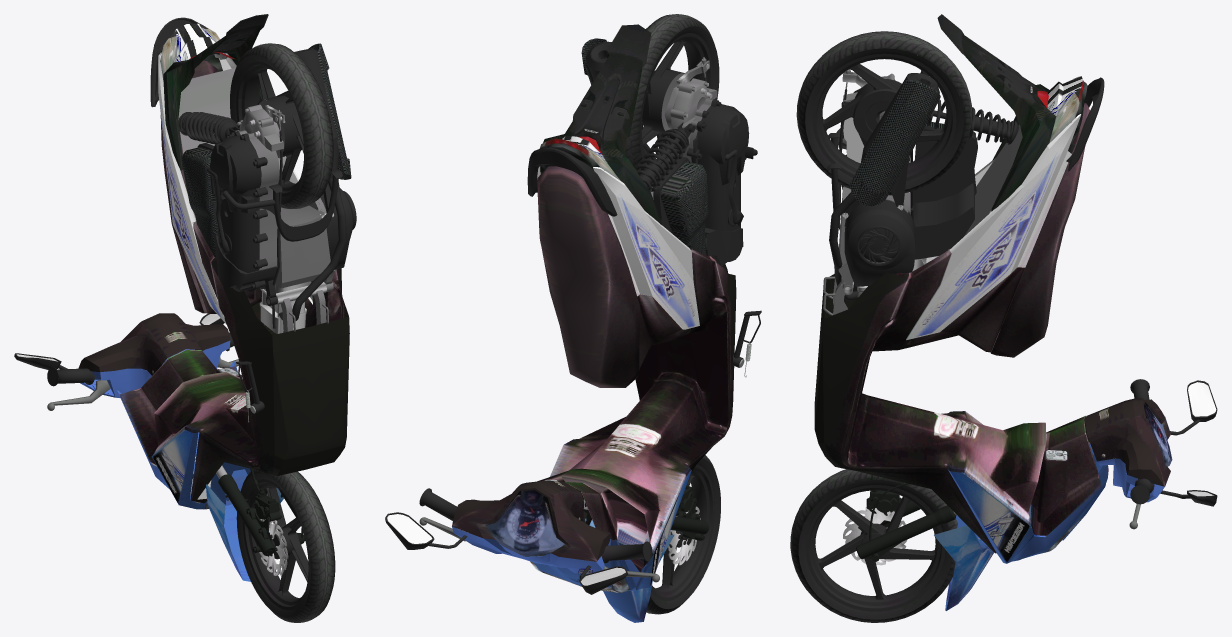
File: Honda_Beat.FBX
The picture shows the model from 3 angles, left to right: view 1: azimuth 30°, elevation 25°; view 2: azimuth 150°, elevation 25°; view 3: azimuth 270°, elevation 25°; orthographic projection. The views are drawn at different scales.
Visible parts, largest first — view 1: Honda_Beat; view 2: Honda_Beat; view 3: Honda_Beat.
Part boxes in pixels (x1,y1,x2,y2): Honda_Beat: [14, 14, 356, 622]; Honda_Beat: [385, 14, 761, 622]; Honda_Beat: [790, 14, 1217, 622].
Bounding box in the file's own units: 0.8073 × 1.25 × 1.94.
